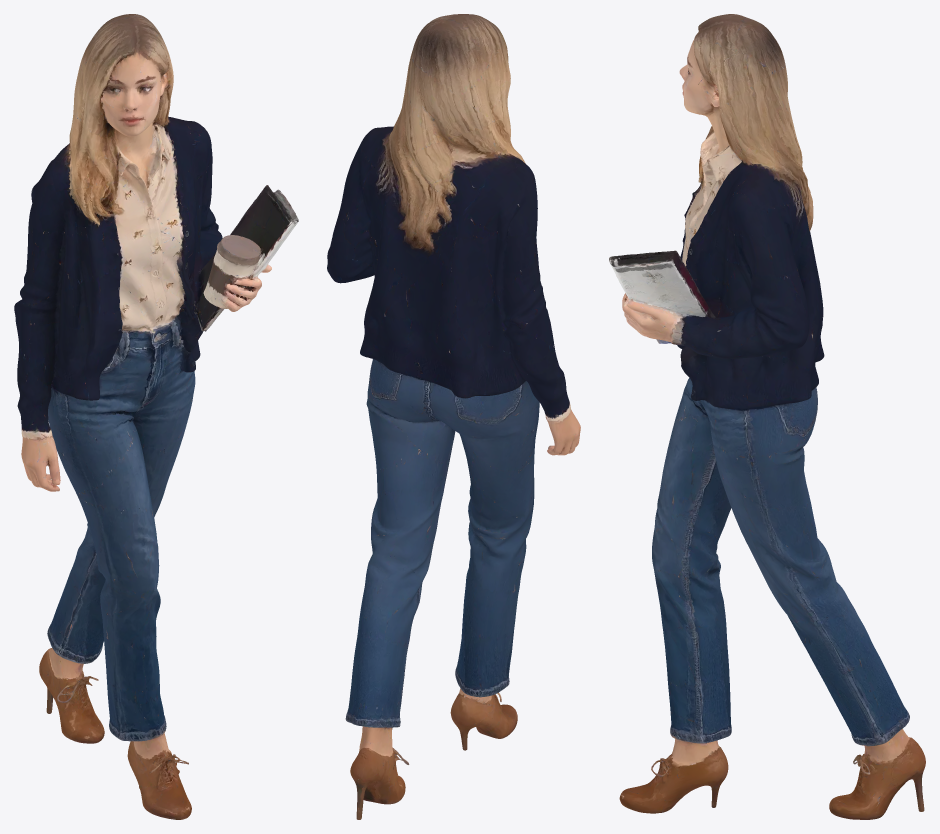
File: stu_walk.glb
3 renders of one model, left to right at view 1: azimuth 30°, elevation 25°; view 2: azimuth 150°, elevation 25°; view 3: azimuth 270°, elevation 25°, orthographic. The views are drawn at different scales.
Parts seen in each view (by area): view 1: mesh_0; view 2: mesh_0; view 3: mesh_0.
Part boxes in pixels (left/top/right/bottom): mesh_0: left=14, top=14, right=298, bottom=819; mesh_0: left=327, top=14, right=580, bottom=819; mesh_0: left=609, top=14, right=925, bottom=819.
Bounding box in the file's own units: 0.6091 × 1.9 × 0.6935.
Materials: 1 (1 with a texture image).
